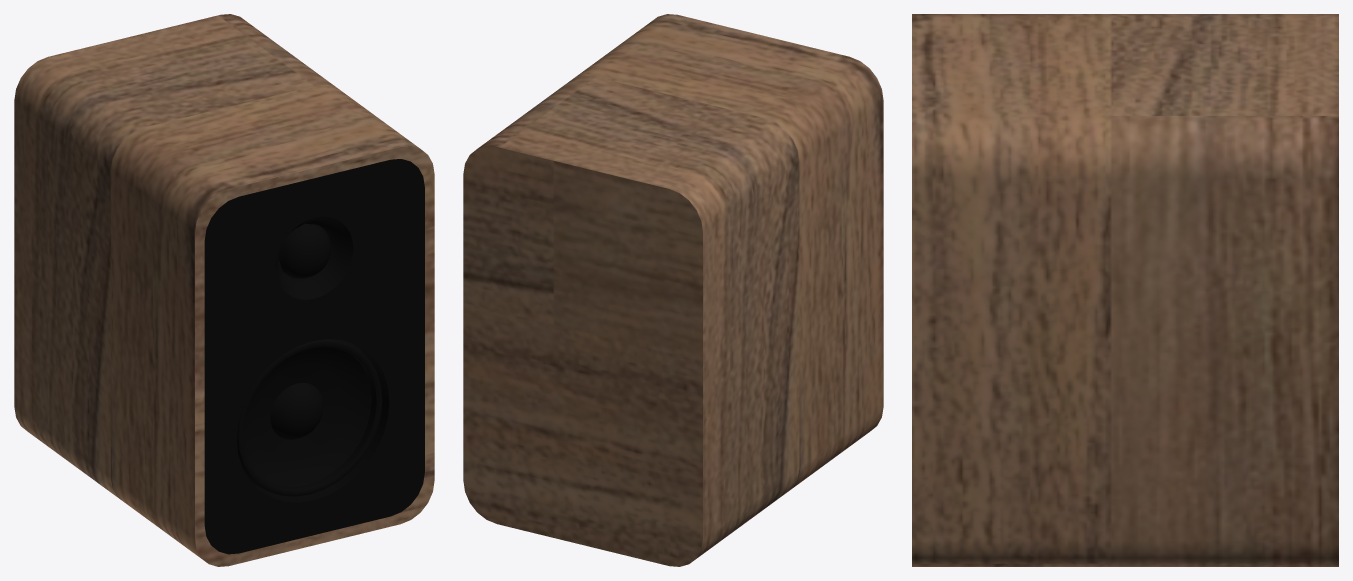
The model's file is SpeakerSmall_LOD0.fbx.
The picture shows the model from 3 angles, left to right: view 1: azimuth 30°, elevation 25°; view 2: azimuth 150°, elevation 25°; view 3: azimuth 270°, elevation 25°; orthographic projection. The views are drawn at different scales.
Parts seen in each view (by area): view 1: SpeakerSmall_LOD0; view 2: SpeakerSmall_LOD0; view 3: SpeakerSmall_LOD0.
Part boxes in pixels (x1,y1,x2,y2): SpeakerSmall_LOD0: (14, 14, 434, 566); SpeakerSmall_LOD0: (463, 14, 883, 566); SpeakerSmall_LOD0: (912, 14, 1338, 566).
Size of what is drawn, in the model's own units: 21.05 by 31.66 by 27.48.
2 materials, 1 textured.
